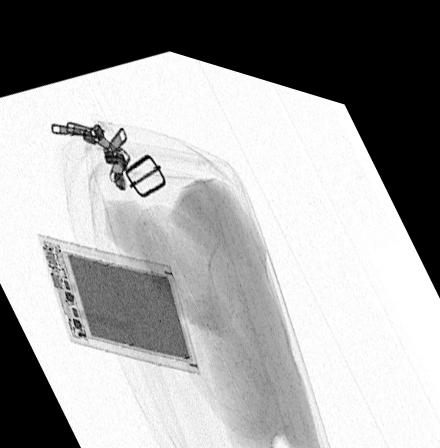Powerbank: (34, 231, 200, 365)
